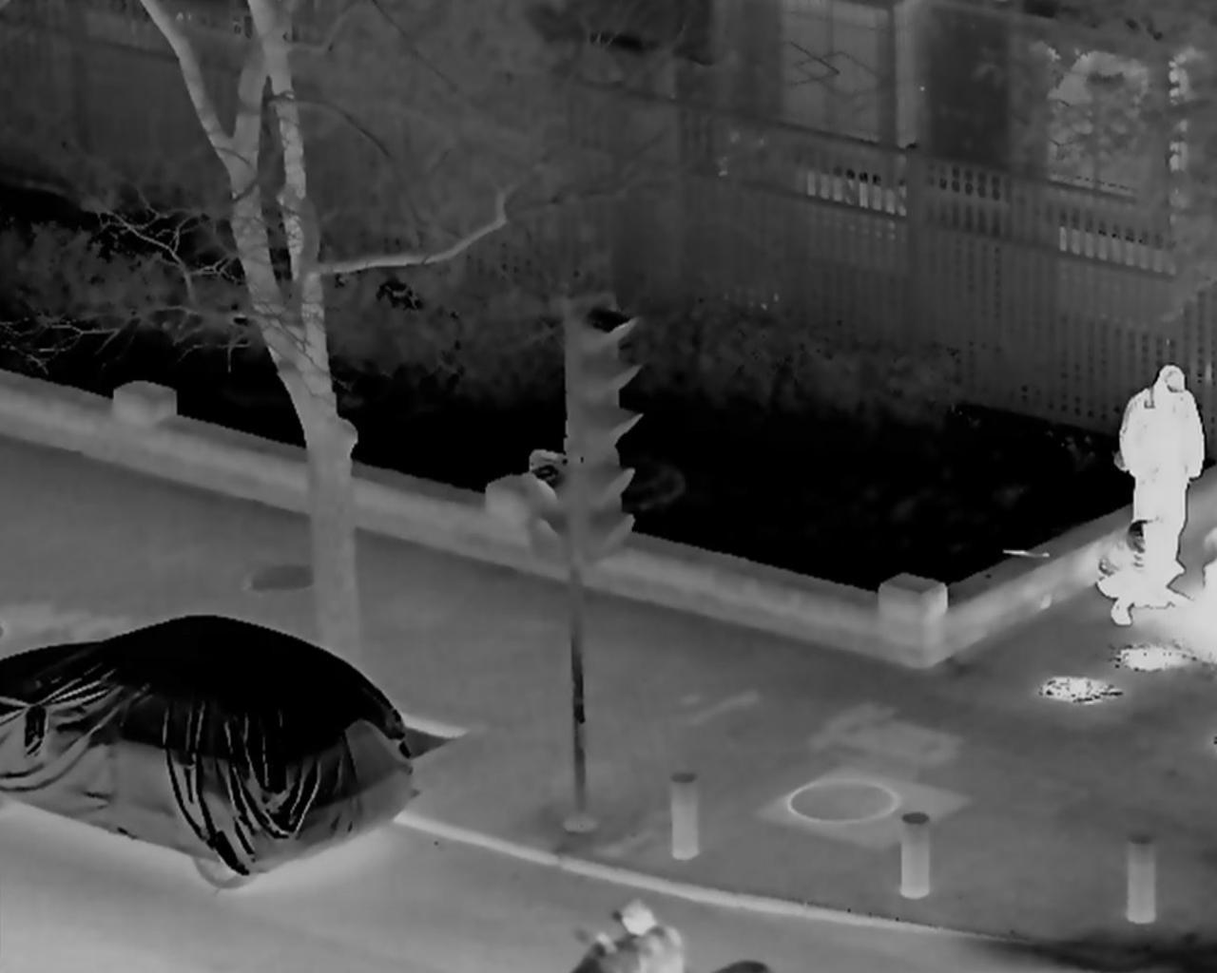person: (1119, 358, 1210, 573), (1093, 513, 1179, 629), (593, 901, 691, 973)
